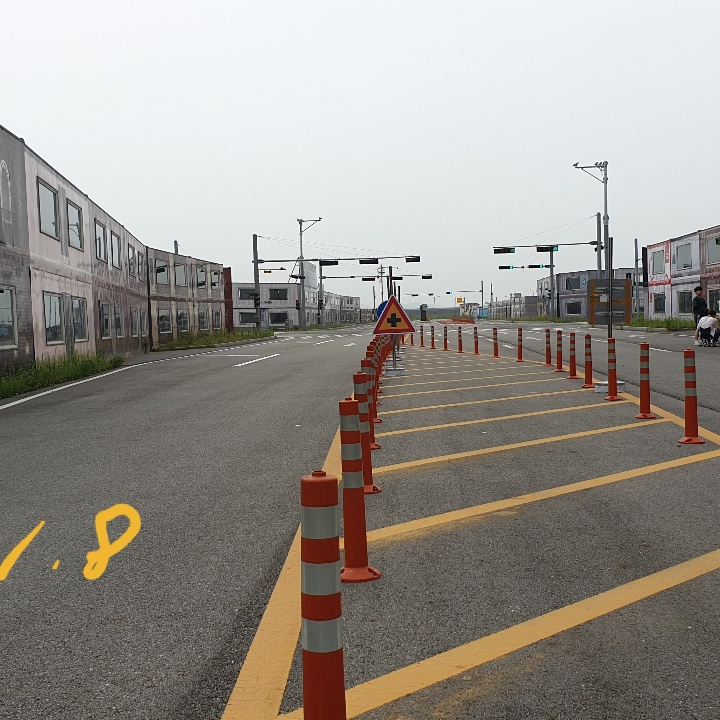inter: (384, 309, 404, 331)
